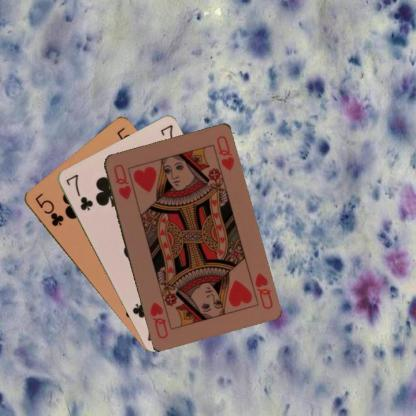5c: (32, 190, 64, 228)
7c: (63, 171, 94, 212)
Qh: (251, 270, 274, 311), (110, 161, 132, 201)
